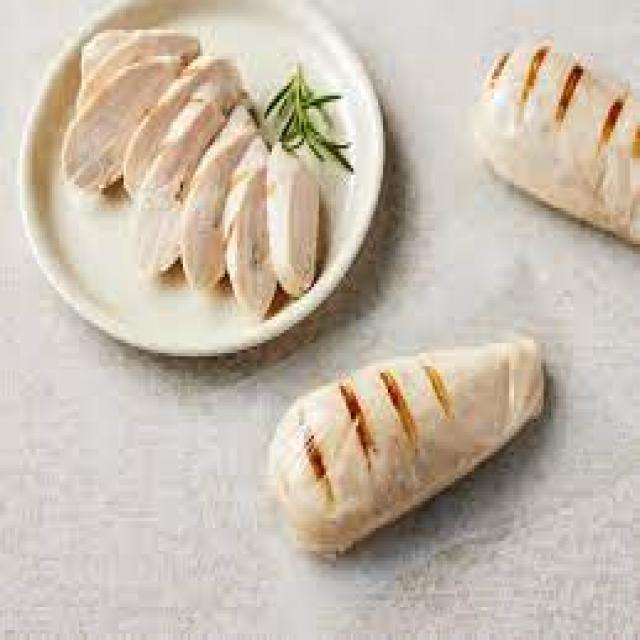chicken: (264, 336, 552, 568), (472, 34, 640, 256)
